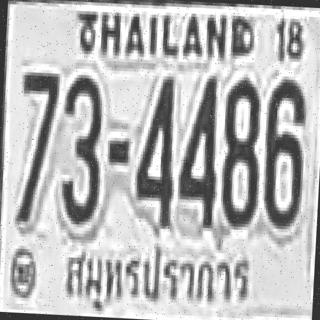N03: (58, 71, 104, 222)
N04: (133, 72, 178, 226), (176, 73, 219, 227)
N06: (261, 76, 306, 227)
N07: (15, 69, 58, 223)
N08: (218, 75, 262, 226)
P57: (56, 241, 255, 318)
